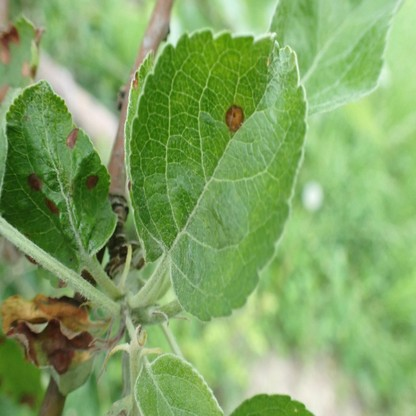frogeye: (0, 25, 20, 63), (226, 107, 244, 132), (26, 174, 42, 192), (66, 129, 80, 147), (86, 174, 99, 190), (46, 197, 58, 214), (22, 62, 29, 77)
